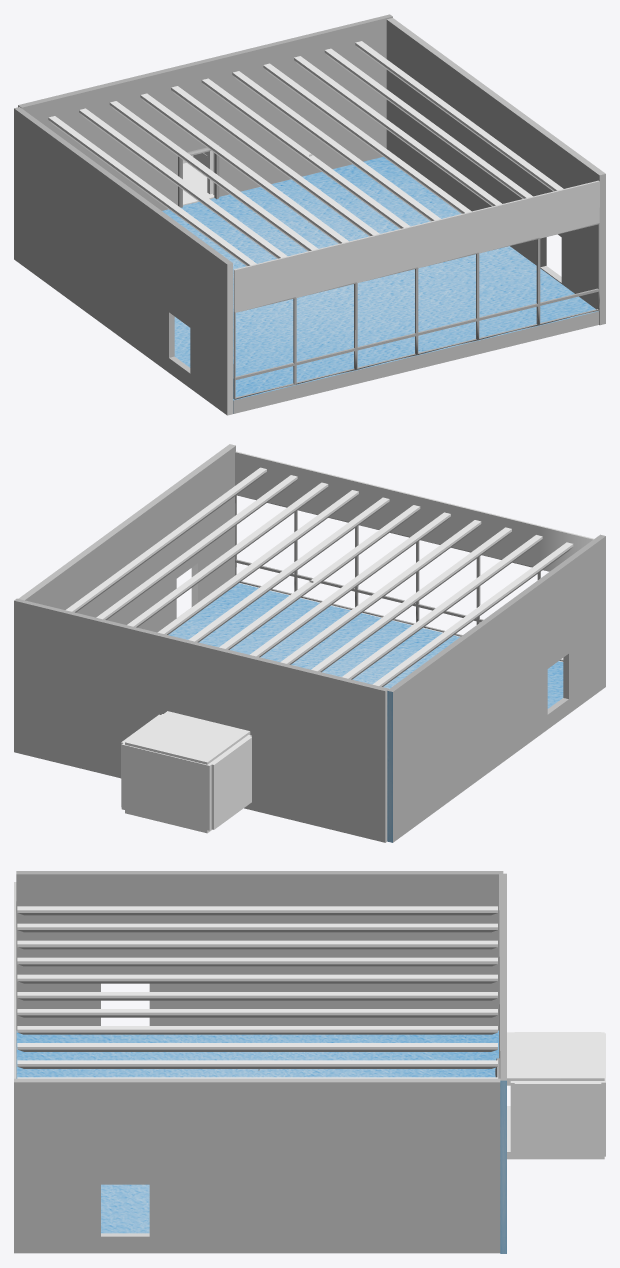
Rendered from Library.fbx.
3 renders of one model, top to bottom at view 1: azimuth 30°, elevation 25°; view 2: azimuth 150°, elevation 25°; view 3: azimuth 270°, elevation 25°, orthographic. The views are drawn at different scales.
Parts seen in each view (by area): view 1: Library__1_, Roof__1_, Elevator__1_; view 2: Library__1_, Roof__1_, Elevator__1_; view 3: Library__1_, Roof__1_, Elevator__1_.
Part boxes in pixels (x1,y1,x2,y2): Library__1_: [14, 14, 605, 415]; Roof__1_: [48, 41, 563, 266]; Elevator__1_: [178, 145, 219, 207]; Library__1_: [14, 444, 605, 842]; Roof__1_: [65, 467, 573, 686]; Elevator__1_: [121, 711, 251, 833]; Library__1_: [14, 871, 506, 1253]; Roof__1_: [17, 906, 497, 1078]; Elevator__1_: [495, 1032, 605, 1159].
Bounding box in the file's own units: 6214 × 2387 × 7393.
